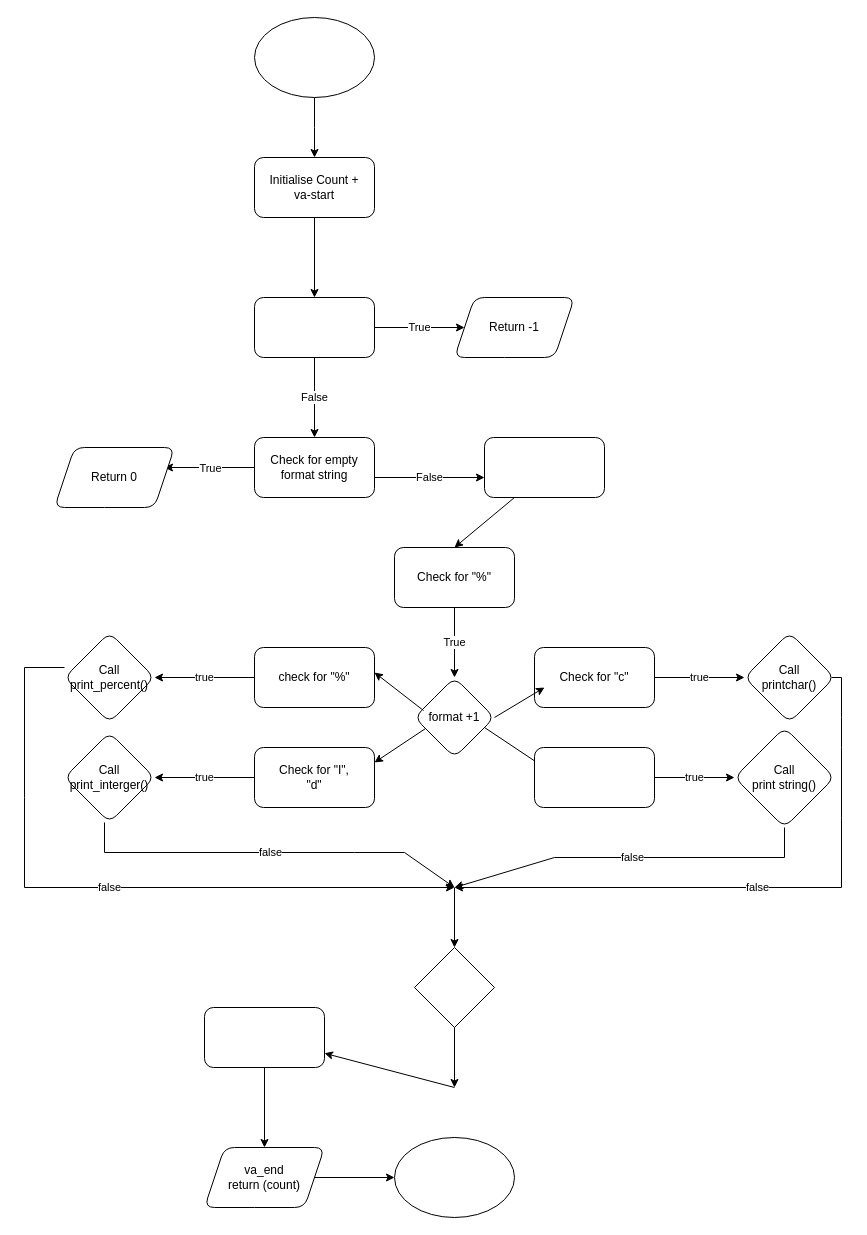
Image size: 867x1235. Some labels were removed from this diagram. Here are the shapes that lost their labels. From the top down, the box of each, then its label:
(254, 16, 374, 98): Start
(254, 296, 374, 358): Check for NULL
(484, 436, 604, 498): While
(534, 746, 654, 808): Check for "s"
(414, 946, 494, 1028): call write()
(204, 1006, 324, 1068): End of while loop
(394, 1136, 514, 1218): END
